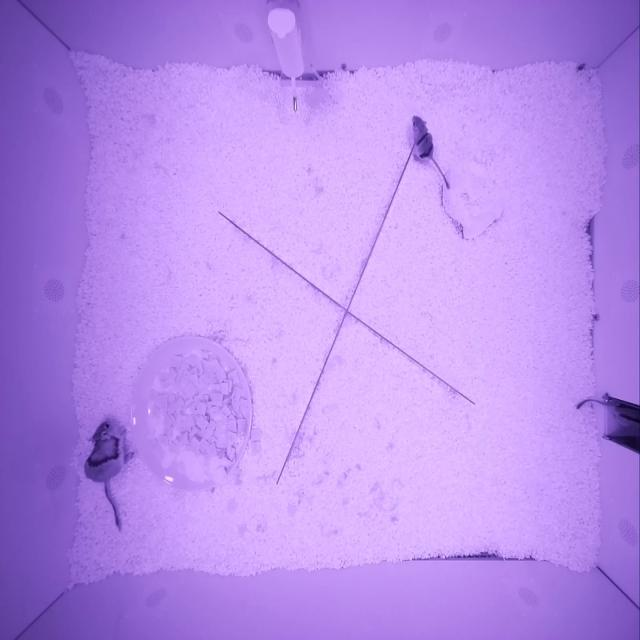adult_front: (85, 422, 128, 483)
pup_h_stripe: (412, 116, 434, 161)
pup_v_stripe: (612, 402, 640, 427)
